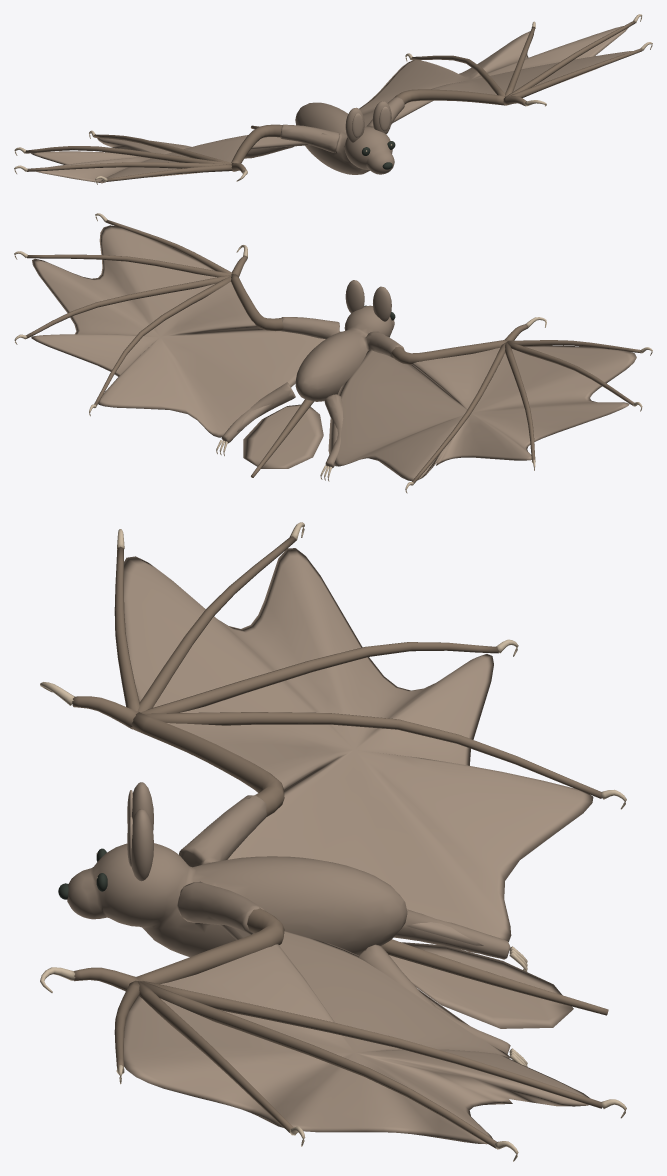
Rendered from onychonycteris.glb.
The picture shows the model from 3 angles, top to bottom: view 1: azimuth 30°, elevation 25°; view 2: azimuth 150°, elevation 25°; view 3: azimuth 270°, elevation 25°; orthographic projection. The views are drawn at different scales.
Visible parts, largest first — view 1: two-broad-curved-closed-wing-membranes-and-tail-web, short-arms-and-four-long-supporting-wing-digits, compact-mammal-trunk-head-and-soft-shoulder-roots, small-rounded-upright-mammal-ears, five-wing-digit-claws-per-side-and-small-foot-claws; view 2: two-broad-curved-closed-wing-membranes-and-tail-web, short-arms-and-four-long-supporting-wing-digits, compact-mammal-trunk-head-and-soft-shoulder-roots, small-rounded-upright-mammal-ears, five-wing-digit-claws-per-side-and-small-foot-claws; view 3: two-broad-curved-closed-wing-membranes-and-tail-web, short-arms-and-four-long-supporting-wing-digits, compact-mammal-trunk-head-and-soft-shoulder-roots, five-wing-digit-claws-per-side-and-small-foot-claws, small-rounded-upright-mammal-ears.
Part boxes in pixels (x1,y1,x2,y2): two-broad-curved-closed-wing-membranes-and-tail-web: (31,26,632,183); short-arms-and-four-long-supporting-wing-digits: (25,21,642,181); compact-mammal-trunk-head-and-soft-shoulder-roots: (244,97,404,174); small-rounded-upright-mammal-ears: (345,101,391,142); five-wing-digit-claws-per-side-and-small-foot-claws: (14,14,652,184); two-broad-curved-closed-wing-membranes-and-tail-web: (31,225,636,480); short-arms-and-four-long-supporting-wing-digits: (26,220,640,483); compact-mammal-trunk-head-and-soft-shoulder-roots: (221,305,404,468); small-rounded-upright-mammal-ears: (345,280,391,321); five-wing-digit-claws-per-side-and-small-foot-claws: (14,213,652,493); two-broad-curved-closed-wing-membranes-and-tail-web: (124,548,593,1144); short-arms-and-four-long-supporting-wing-digits: (72,536,608,1148); compact-mammal-trunk-head-and-soft-shoulder-roots: (67,795,510,1054); five-wing-digit-claws-per-side-and-small-foot-claws: (40,522,626,1161); small-rounded-upright-mammal-ears: (127,782,153,881).
Bounding box in the file's own units: 0.2771 × 0.0484 × 0.1121.
